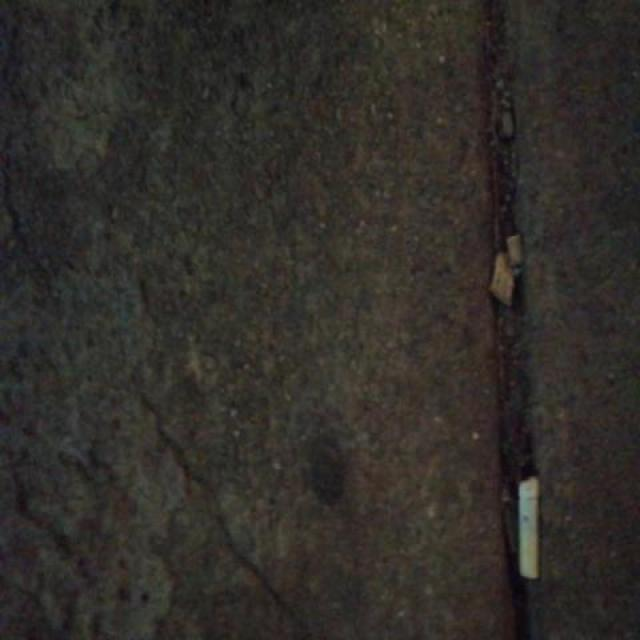non-organic waste: (514, 469, 546, 588)
